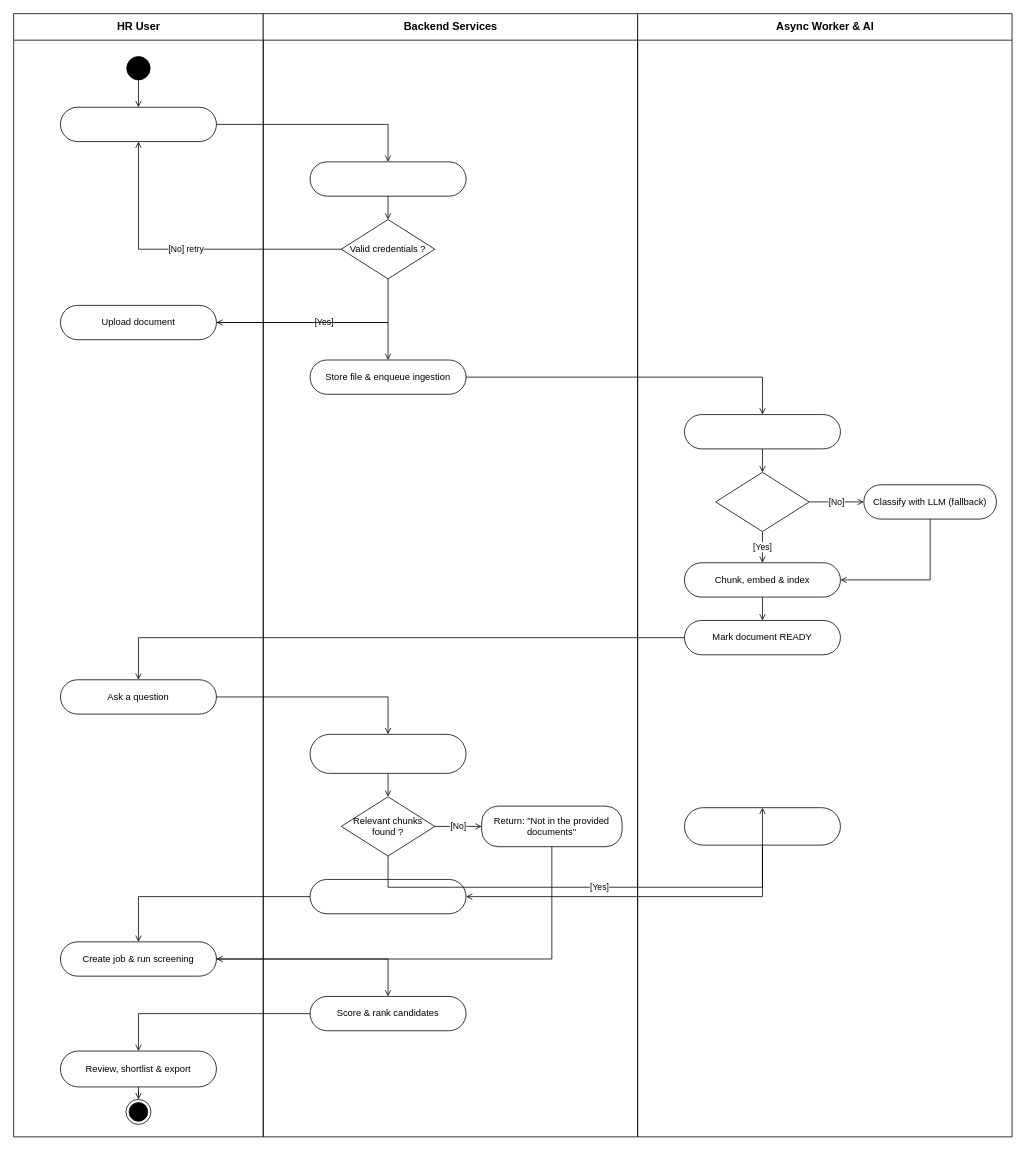
The diagram is 1026 pixels wide and 1151 high, and some of its shapes have lost their labels. The centre of each missing label's shape, as x and y in pixels:
Authenticate credentials: the point at 387,178
Confidence ≥ 0.4 ?: the point at 762,502
Extract text (OCR if needed): the point at 762,431
Generate cited answer (Claude): the point at 762,826
Log in: the point at 138,124
Retrieve chunks (vector + lexical, RRF): the point at 387,753
Stream answer + citations: the point at 387,896
